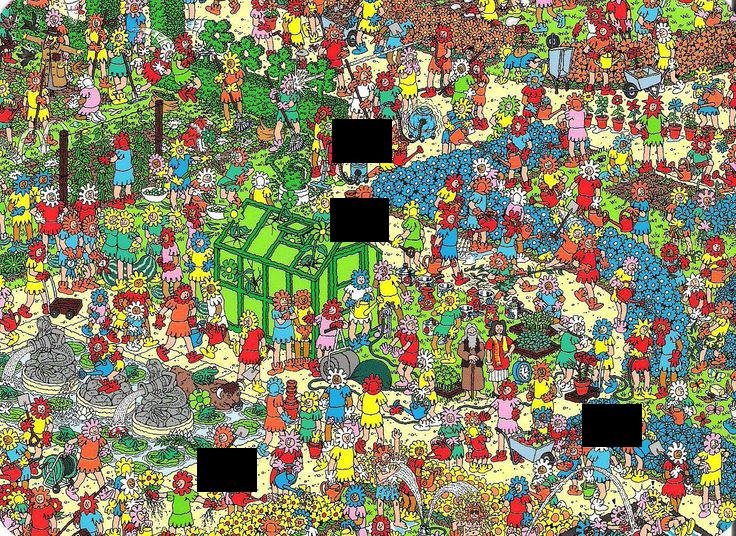waldo: (461, 44, 474, 60)
